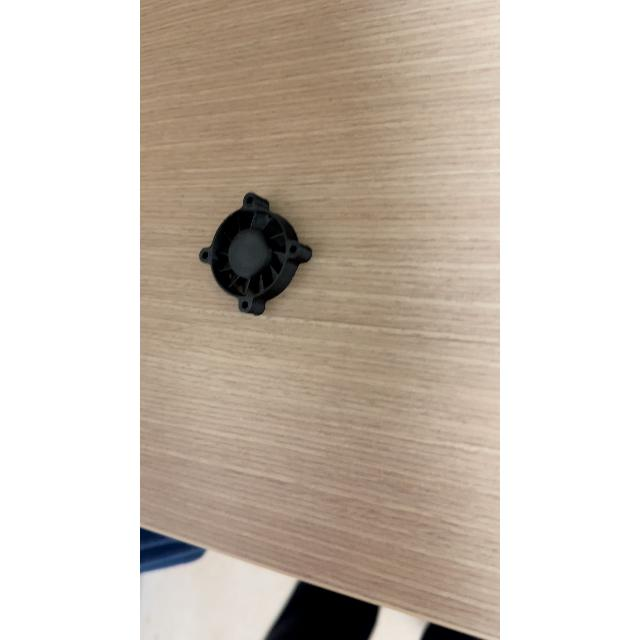Pieza_4: (178, 180, 334, 334)
